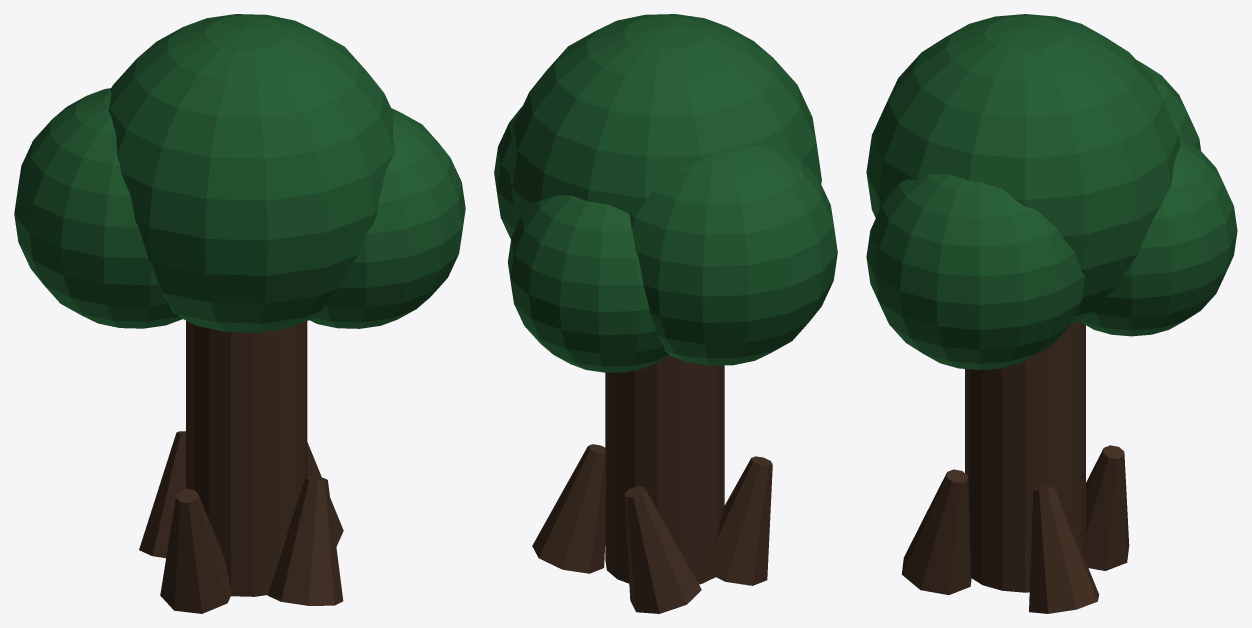
The model's file is ancient_wispwood_tree.obj.
3 renders of one model, left to right at view 1: azimuth 30°, elevation 25°; view 2: azimuth 150°, elevation 25°; view 3: azimuth 270°, elevation 25°, orthographic.
Visible parts, largest first — view 1: Sphere, Cylinder, Sphere.001, Sphere.002, Cone.003, Cone.002, Cone.001; view 2: Sphere, Sphere.001, Cylinder, Sphere.003, Cone, Cone.001, Cone.002, Sphere.002; view 3: Sphere, Sphere.002, Cylinder, Sphere.003, Cone, Cone.003, Cone.001, Sphere.001.
Part boxes in pixels (<box>): Sphere: <box>108,14,395,332</box>; Cylinder: <box>186,320,307,596</box>; Sphere.001: <box>14,88,182,328</box>; Sphere.002: <box>310,108,465,328</box>; Cone.003: <box>267,476,343,605</box>; Cone.002: <box>160,489,231,613</box>; Cone.001: <box>139,431,185,558</box>; Sphere: <box>508,14,821,223</box>; Sphere.001: <box>630,145,837,365</box>; Cylinder: <box>605,355,724,584</box>; Sphere.003: <box>508,195,668,372</box>; Cone: <box>532,444,605,573</box>; Cone.001: <box>624,486,701,613</box>; Cone.002: <box>707,456,772,585</box>; Sphere.002: <box>494,106,522,238</box>; Sphere: <box>866,14,1180,323</box>; Sphere.002: <box>866,174,1084,370</box>; Cylinder: <box>965,321,1085,592</box>; Sphere.003: <box>1080,138,1237,336</box>; Cone: <box>1029,484,1099,613</box>; Cone.003: <box>901,469,971,594</box>; Cone.001: <box>1086,445,1129,570</box>; Sphere.001: <box>1136,60,1200,150</box>.
Size of the model in its own units: 11.2 by 15.89 by 9.8.
